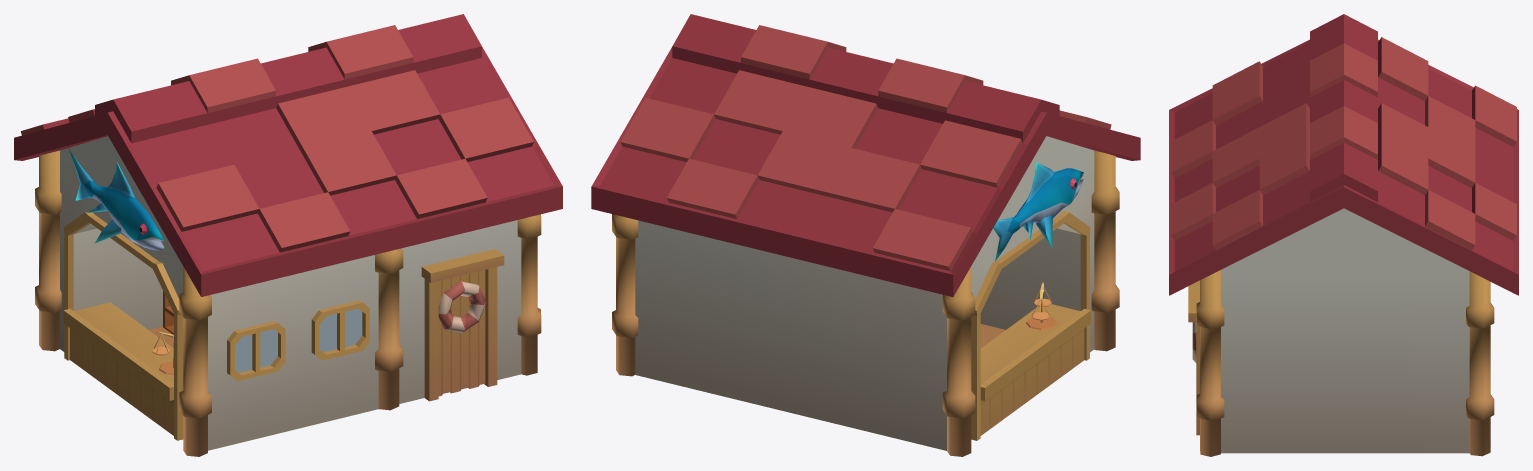
Rendered from FishingCabin.fbx.
3 renders of one model, left to right at view 1: azimuth 30°, elevation 25°; view 2: azimuth 150°, elevation 25°; view 3: azimuth 270°, elevation 25°, orthographic. The views are drawn at different scales.
Visible parts, largest first — view 1: Plane.043; view 2: Plane.043, Circle; view 3: Plane.043.
Boxes of the visible parts, <box> form: Plane.043: <box>14,14,562,456</box>; Plane.043: <box>591,14,1140,456</box>; Circle: <box>1026,282,1057,329</box>; Plane.043: <box>1169,14,1518,456</box>.
Size of the model in its own units: 1010 by 800 by 882.
